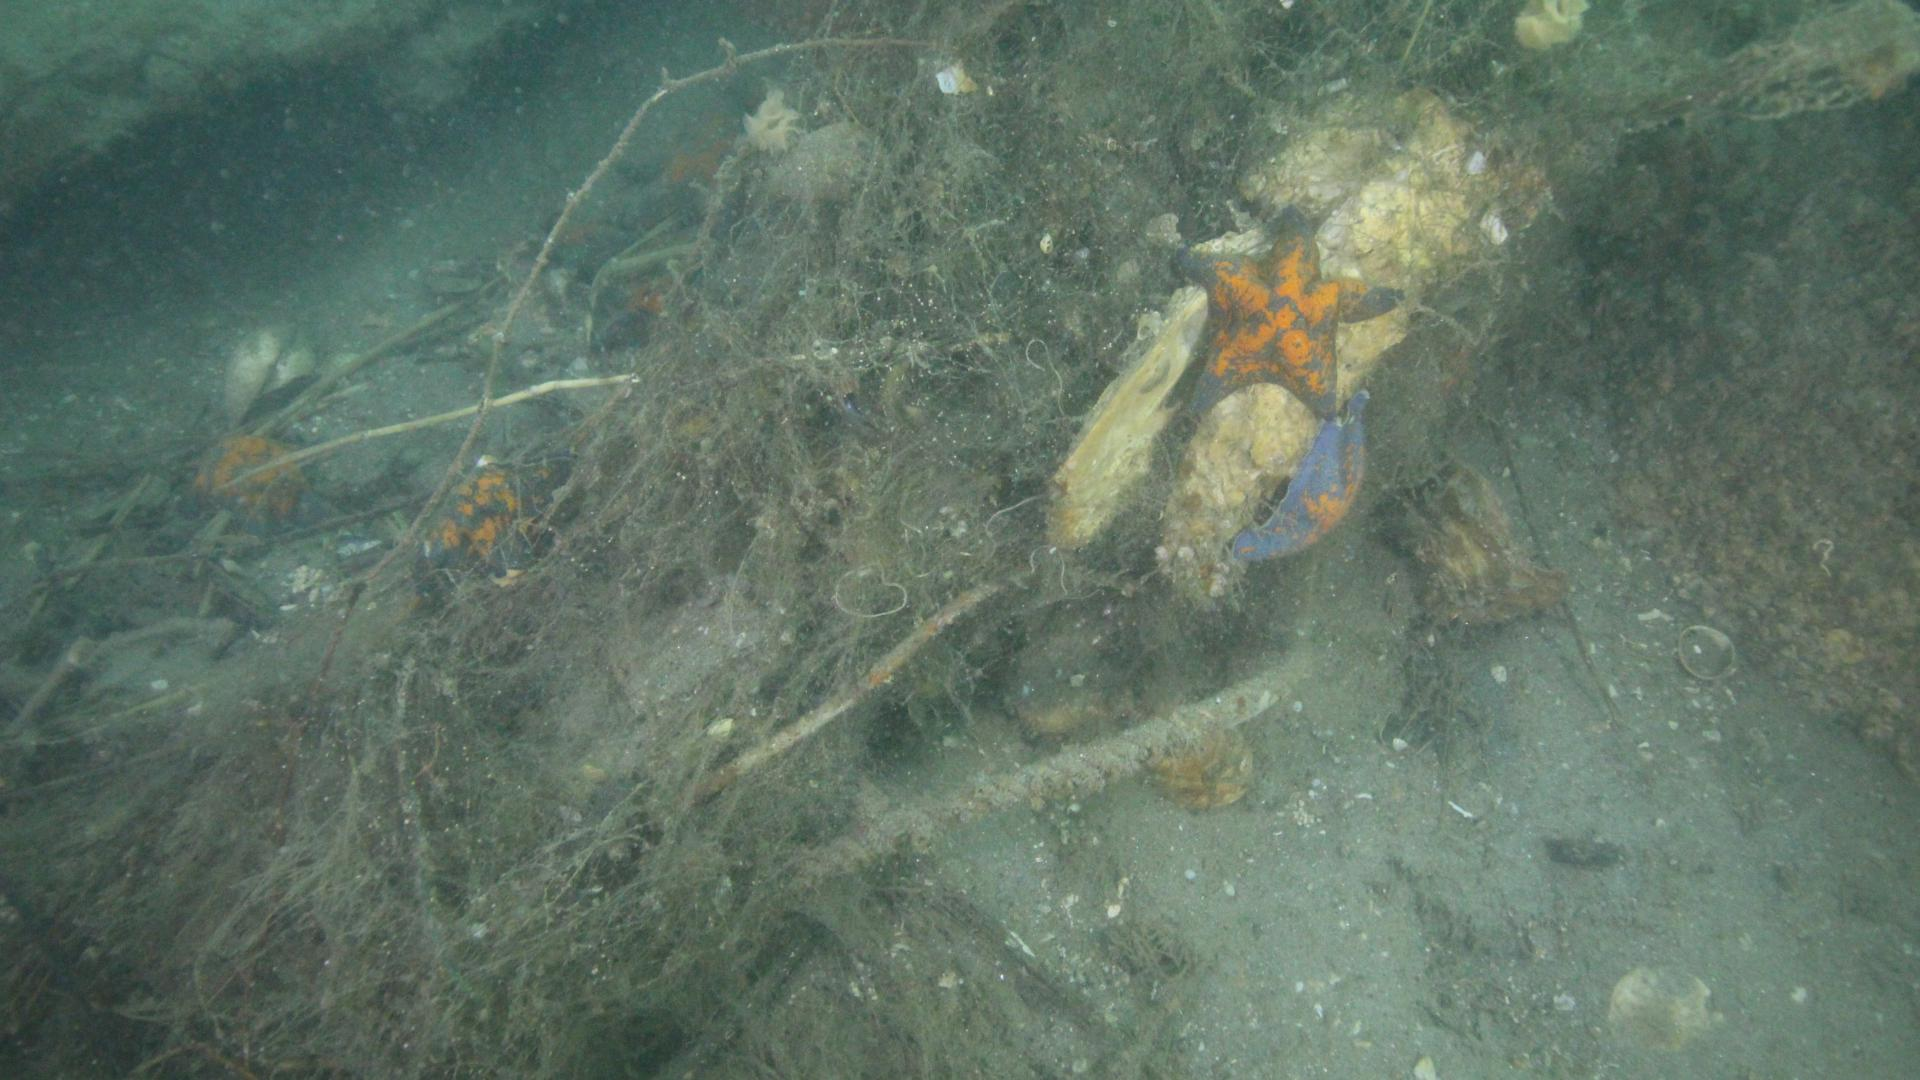rope: (785, 657, 1312, 887)
